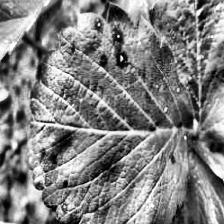Leaf Spot: (26, 1, 197, 224), (145, 0, 224, 140), (97, 141, 224, 224)
